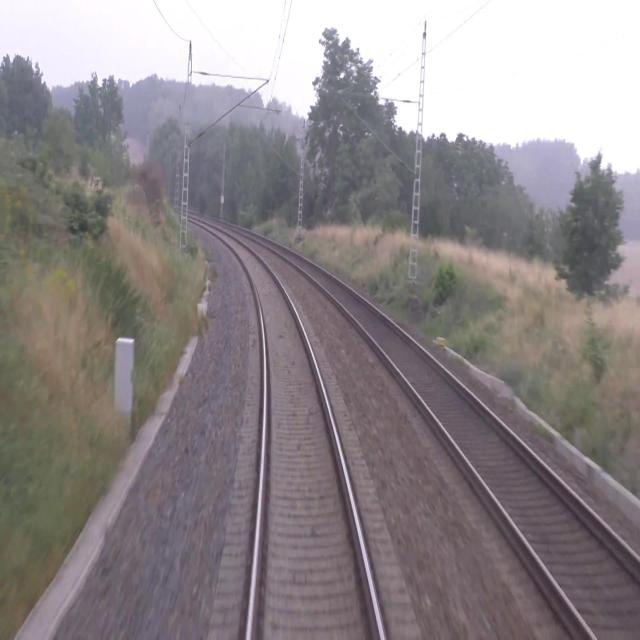rail-track: (188, 216, 380, 639)
